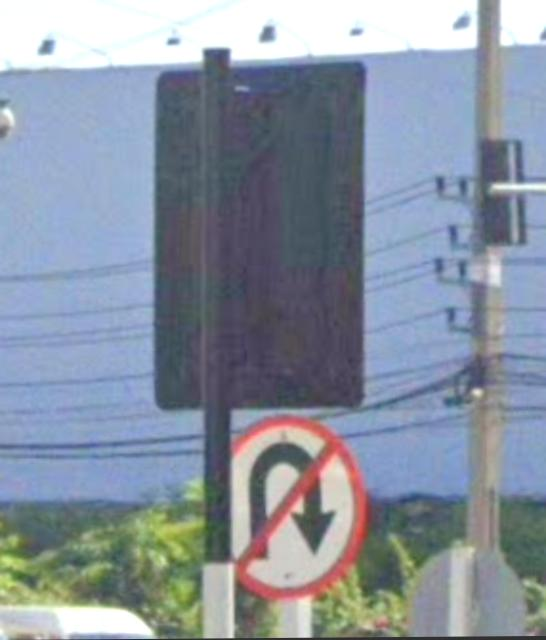not_u_turn_right: (229, 413, 369, 599)
